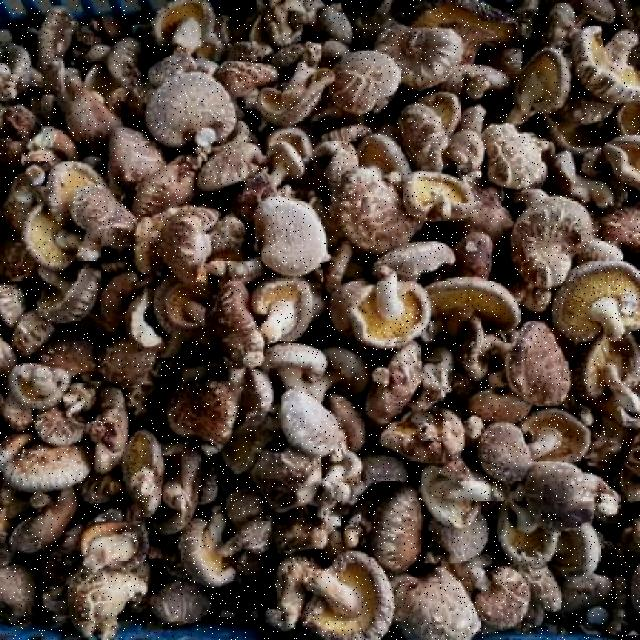Mushroom: (532, 242, 639, 361), (133, 67, 250, 167), (286, 546, 405, 639), (353, 258, 435, 357)
